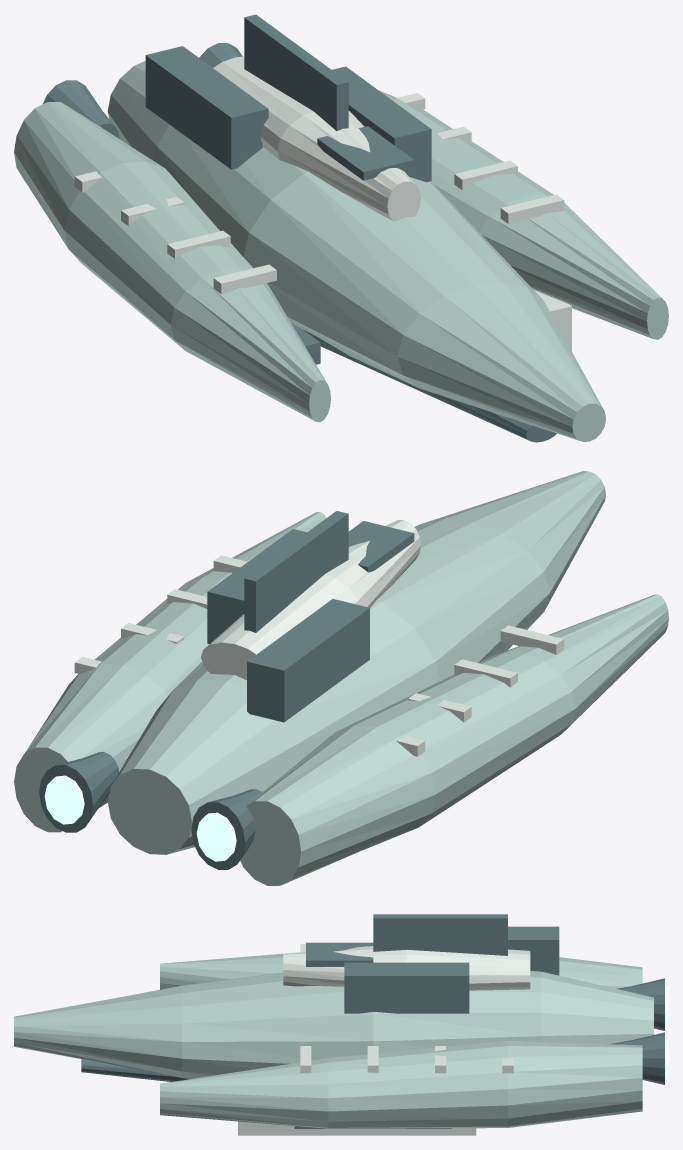
3 renders of one model, top to bottom at view 1: azimuth 30°, elevation 25°; view 2: azimuth 150°, elevation 25°; view 3: azimuth 270°, elevation 25°, orthographic. The views are drawn at different scales.
Size of the model in its own units: 6.54 by 3.75 by 12.57.
